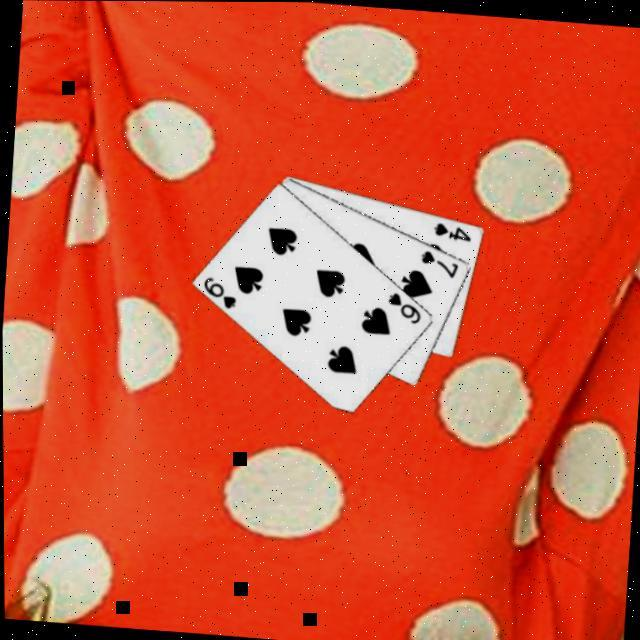4S: (432, 219, 474, 244)
6S: (384, 288, 425, 327), (200, 274, 241, 312)
7S: (417, 246, 462, 280)
